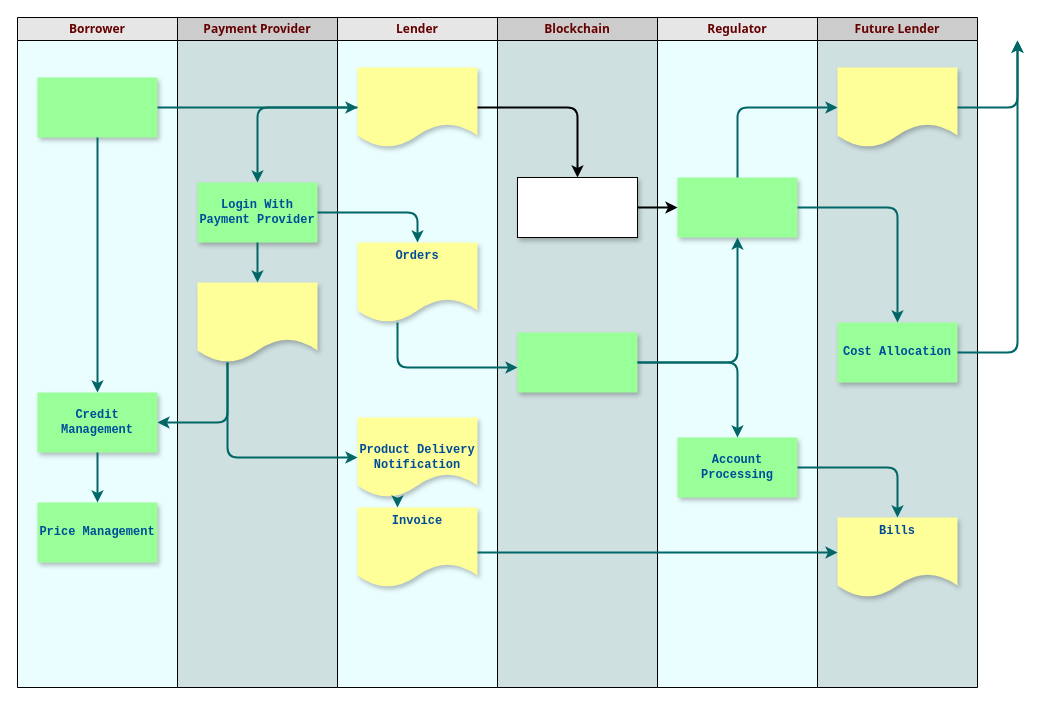
Image size: 1044x705. Some labels were removed from this diagram. The shapes that lost their labels are listed below. From the top down, each one's centre as x and y in pixels, then its label:
point 98,108: Apply for Loan
point 418,108: Choose Identity Provider for Site Login
point 898,108: Sales Contract
point 578,208: Inventory Control
point 738,208: Outbound Accounting
point 258,323: Facilities Procurement Application
point 578,363: Product Delivery
